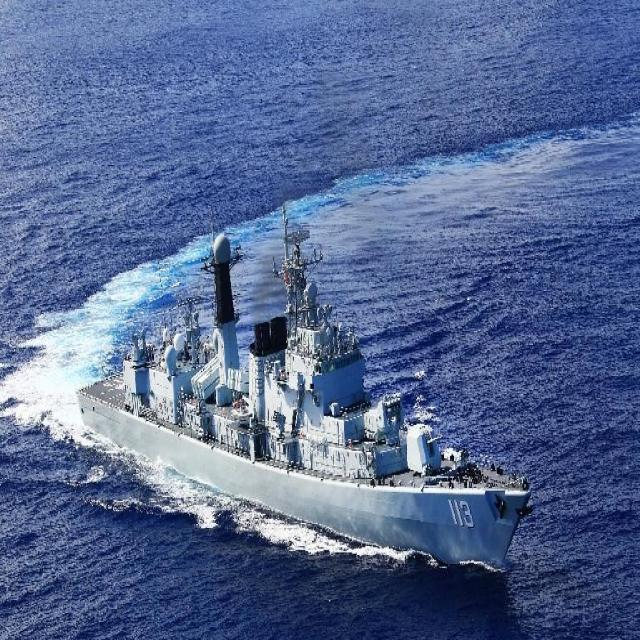navalvessels: (64, 206, 524, 591)
